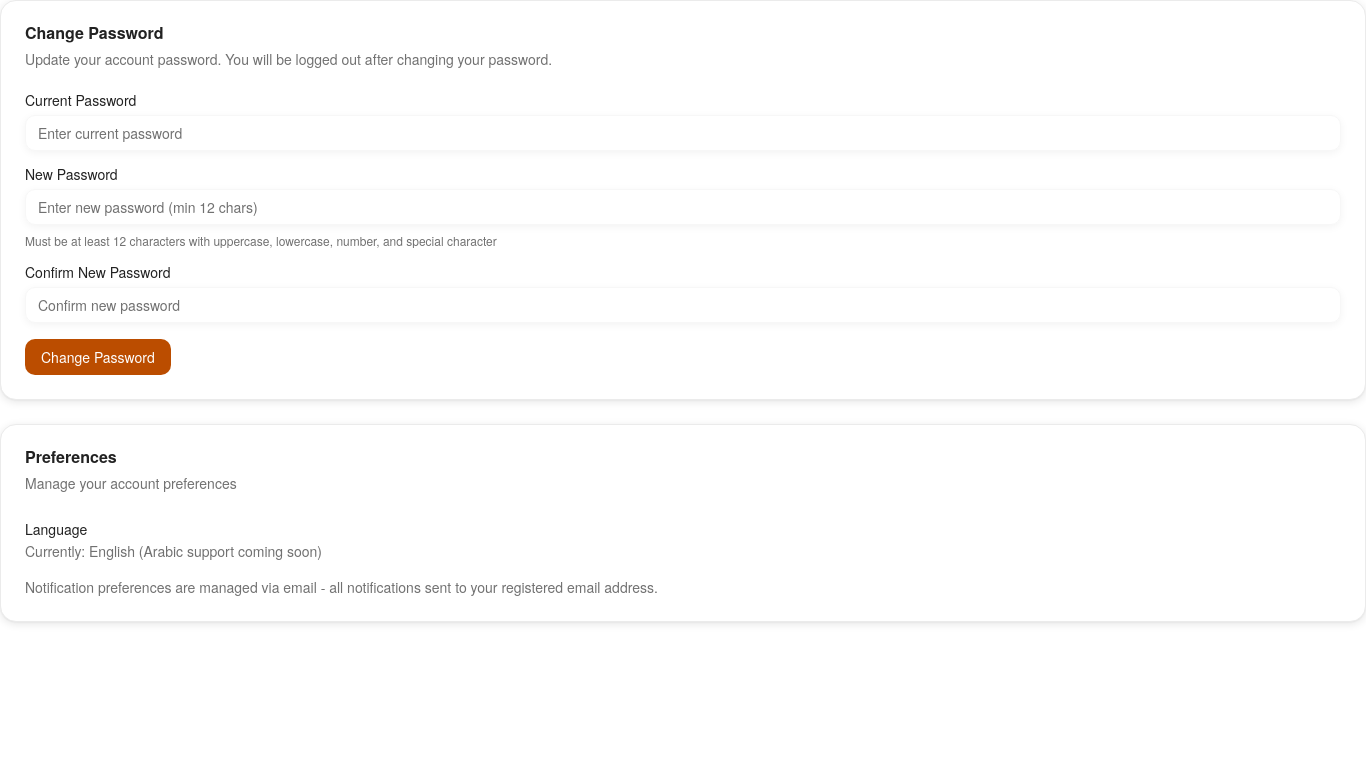
Test: AccountSettingsSection › should validate password requirements
Click the button with test id "btn-change-password" at (98, 357), box [25, 339, 171, 375]
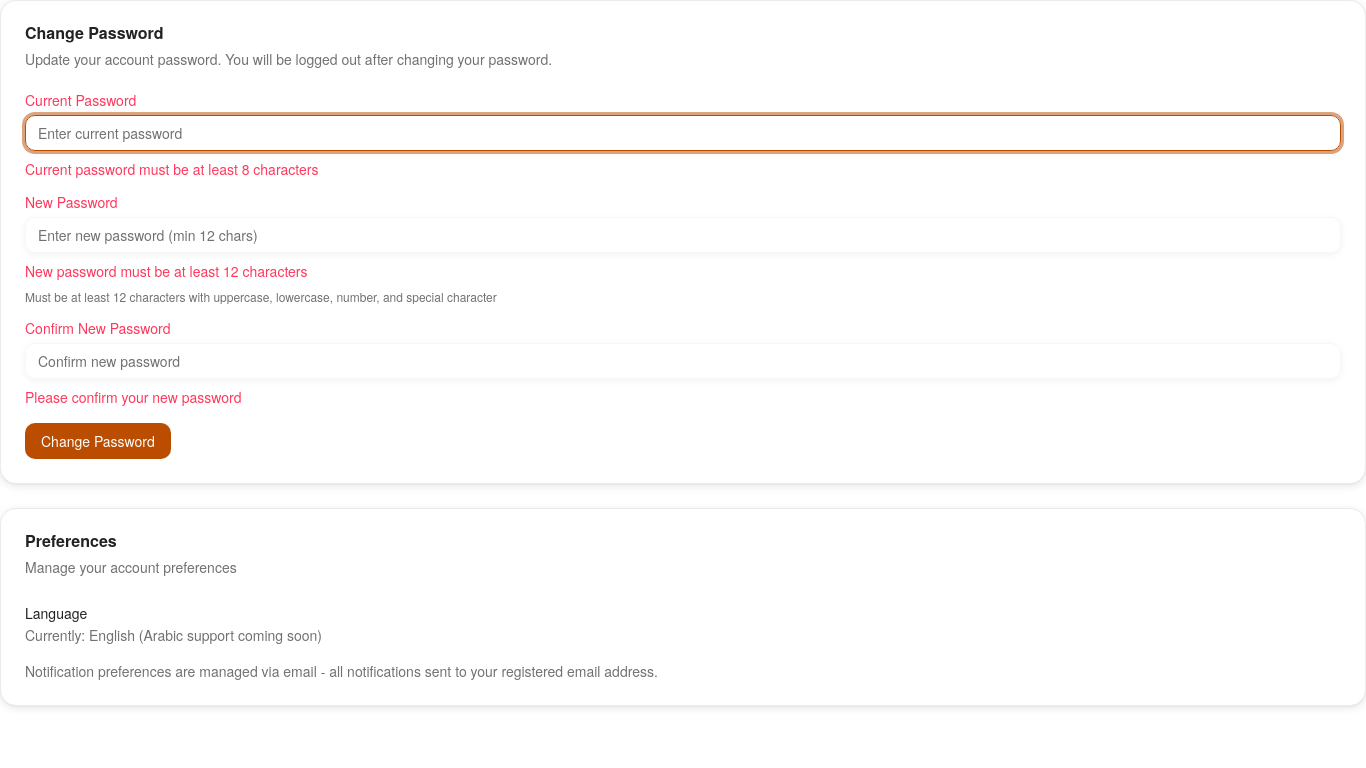
Result: the text "Current password must be at least 8 characters" is shown at [25, 159, 318, 179]
